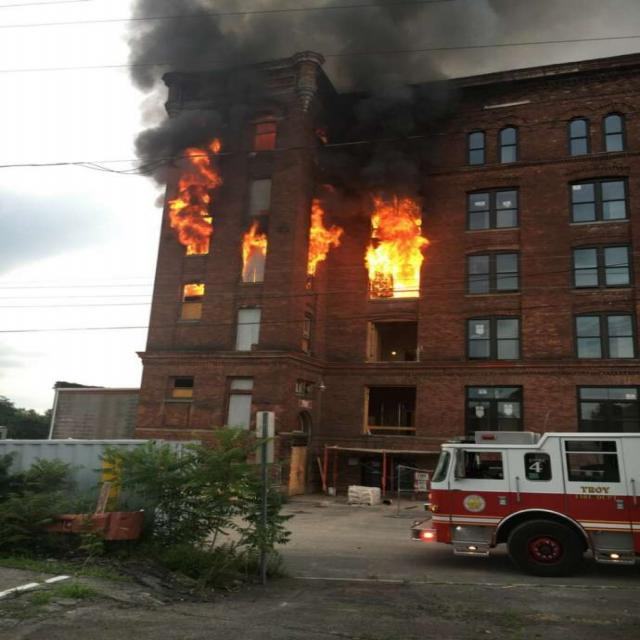Fire: (165, 110, 425, 322)
Smoke: (110, 0, 604, 105)
